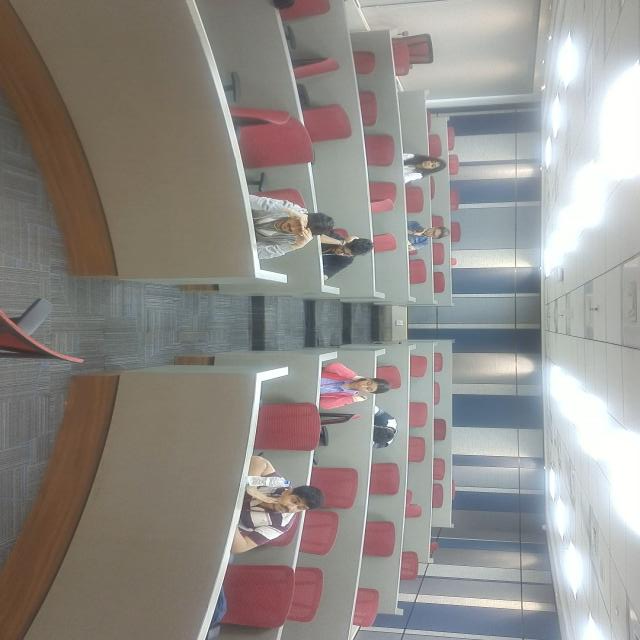non-cheating: (363, 249, 406, 336)
